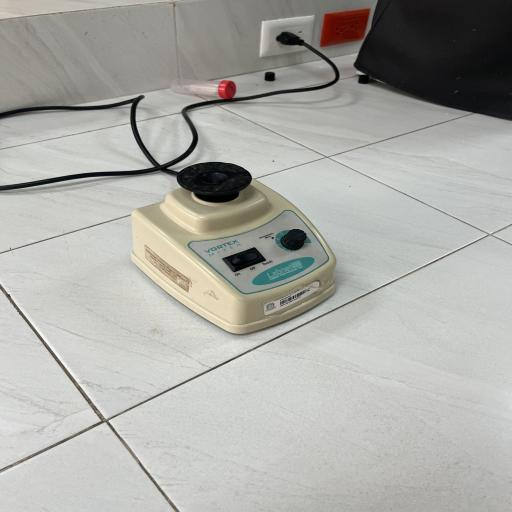Vortex_Mixer_LabNet: (105, 138, 350, 360)
